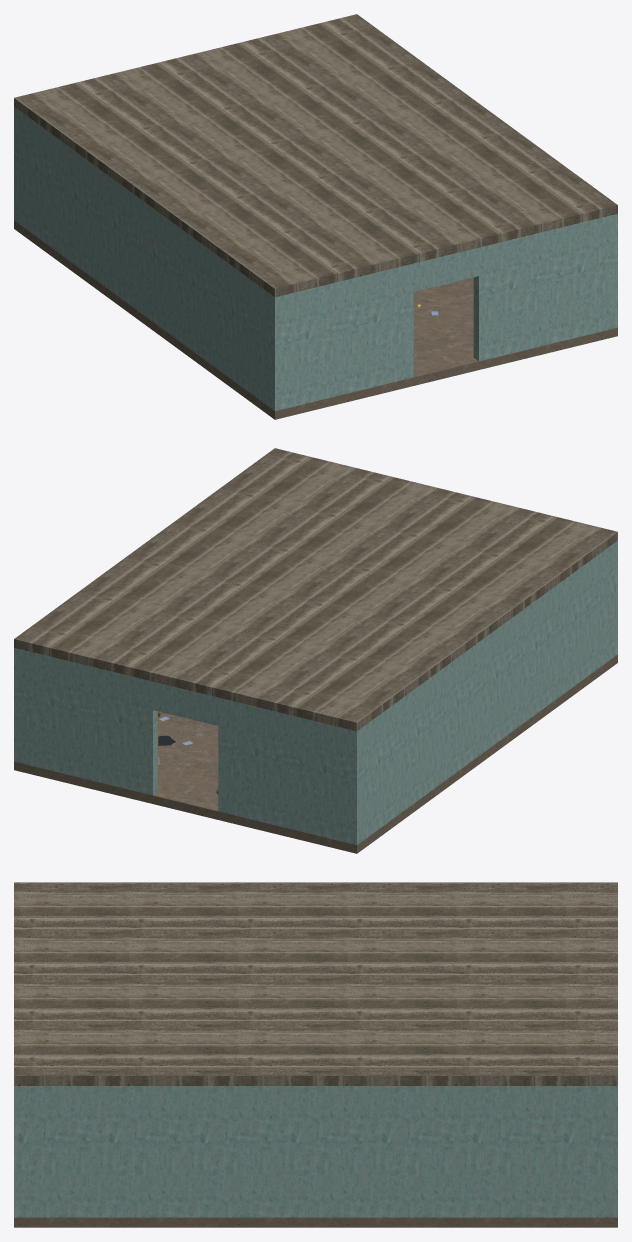
Rendered from zone_a_entry.glb.
3 renders of one model, top to bottom at view 1: azimuth 30°, elevation 25°; view 2: azimuth 150°, elevation 25°; view 3: azimuth 270°, elevation 25°, orthographic. The views are drawn at different scales.
Parts seen in each view (by area): view 1: A_overhead, A_wall, A_floor; view 2: A_overhead, A_wall, A_floor; view 3: A_overhead, A_wall, A_floor.
Part boxes in pixels (<box>): A_overhead: <box>14,14,617,297</box>; A_wall: <box>14,106,617,411</box>; A_floor: <box>14,220,617,419</box>; A_overhead: <box>14,448,617,731</box>; A_wall: <box>14,540,617,845</box>; A_floor: <box>14,654,617,853</box>; A_overhead: <box>14,882,617,1085</box>; A_wall: <box>14,1086,617,1217</box>; A_floor: <box>14,1217,617,1227</box>.
Size of the model in its own units: 12.6 by 4.6 by 16.6.
Materials: 23 (11 with a texture image).
